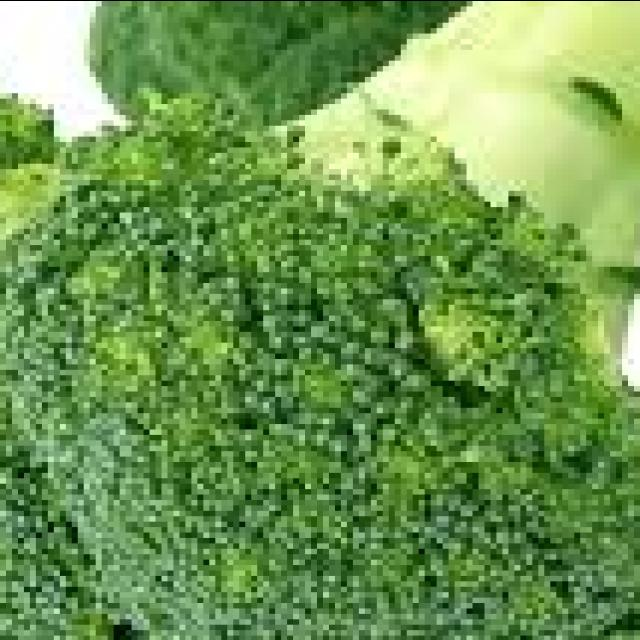broccoli: (0, 0, 640, 640), (90, 0, 482, 125)
